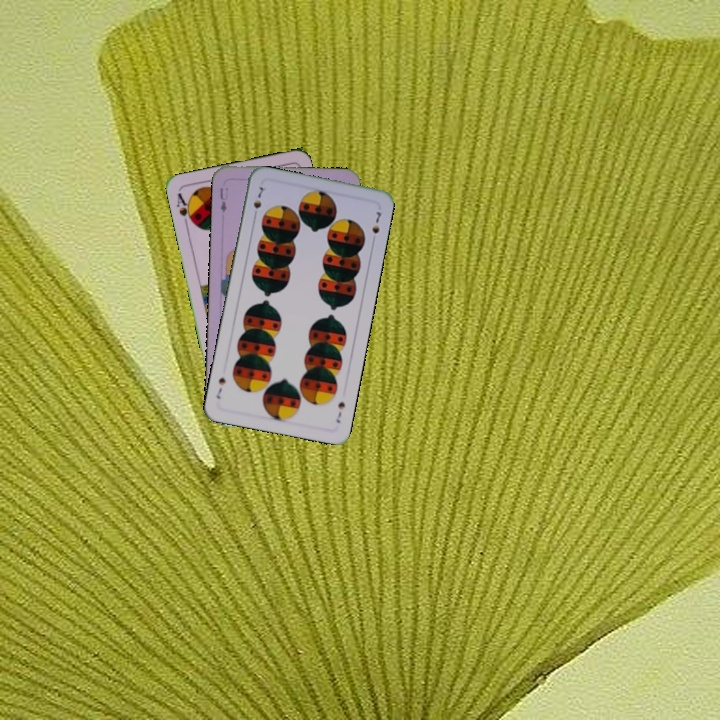EU: (216, 184, 231, 215)
S7: (249, 182, 266, 221), (332, 397, 347, 426)
SA: (172, 189, 196, 229)
